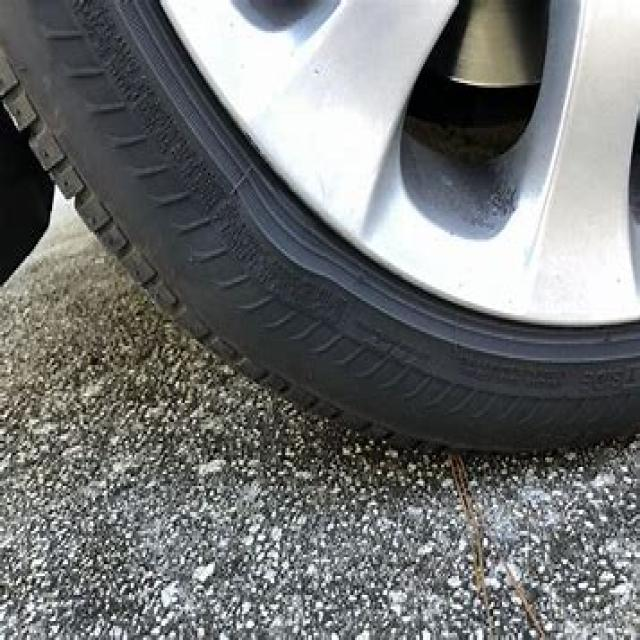Bulge: (223, 177, 354, 324)
